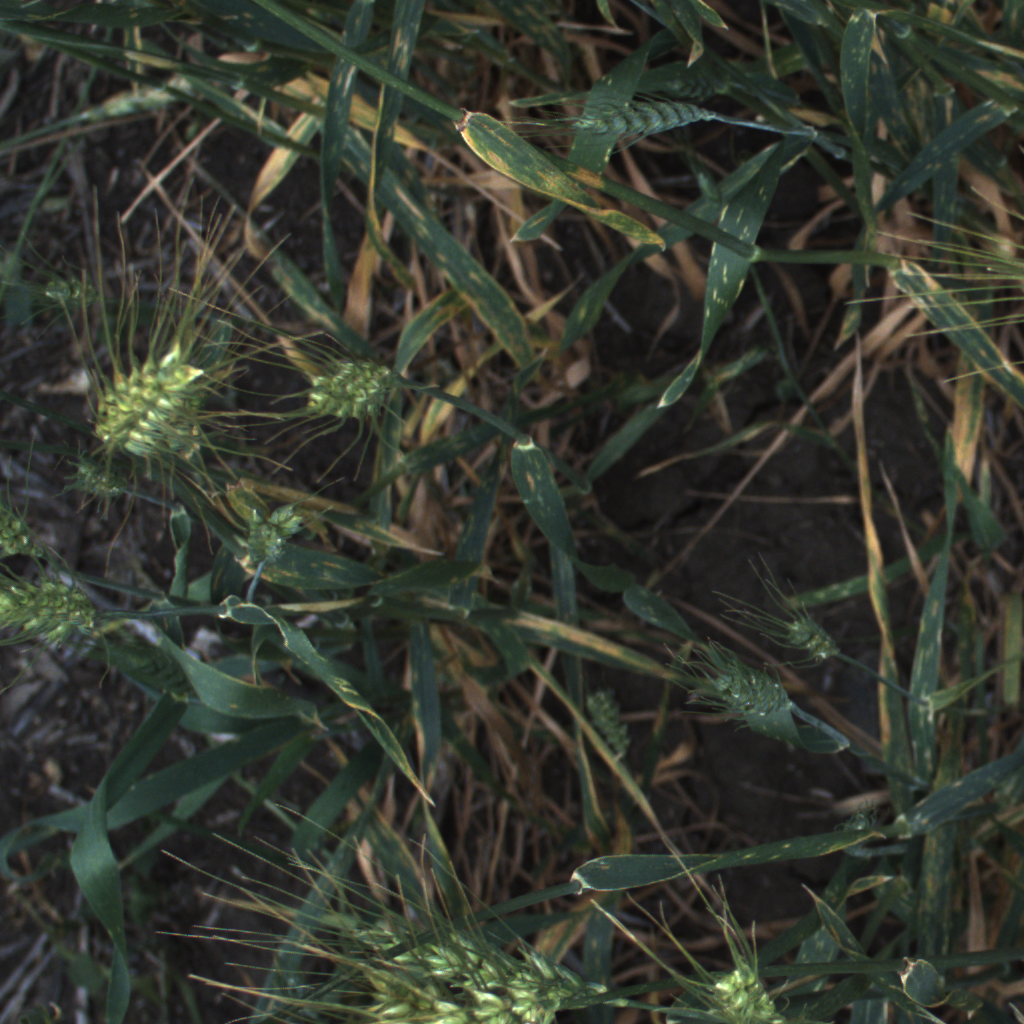wheat_head: (351, 927, 647, 1013), (93, 347, 202, 459), (288, 343, 414, 437), (363, 980, 594, 1024), (1, 573, 116, 654), (698, 655, 811, 736), (696, 945, 803, 1024), (574, 97, 717, 148), (764, 597, 853, 673), (239, 503, 303, 568), (0, 489, 50, 564), (39, 262, 104, 305), (73, 462, 131, 496), (666, 79, 726, 109)
